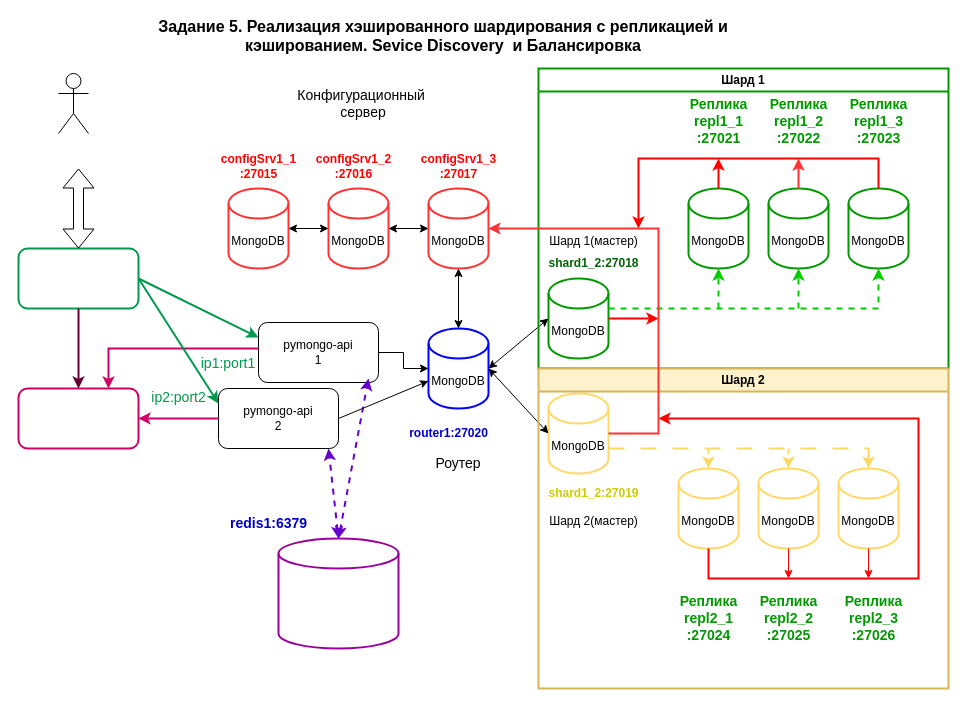
Image size: 966x707. Some labels were removed from this diagram. The box of each missing label's shape, as (x1, y1, x2, y2) in pixels:
Actor: (58, 72, 88, 134)
API gateway: (17, 247, 139, 309)
Redis: (277, 537, 399, 649)
Service Registry Consul: (17, 387, 139, 449)
